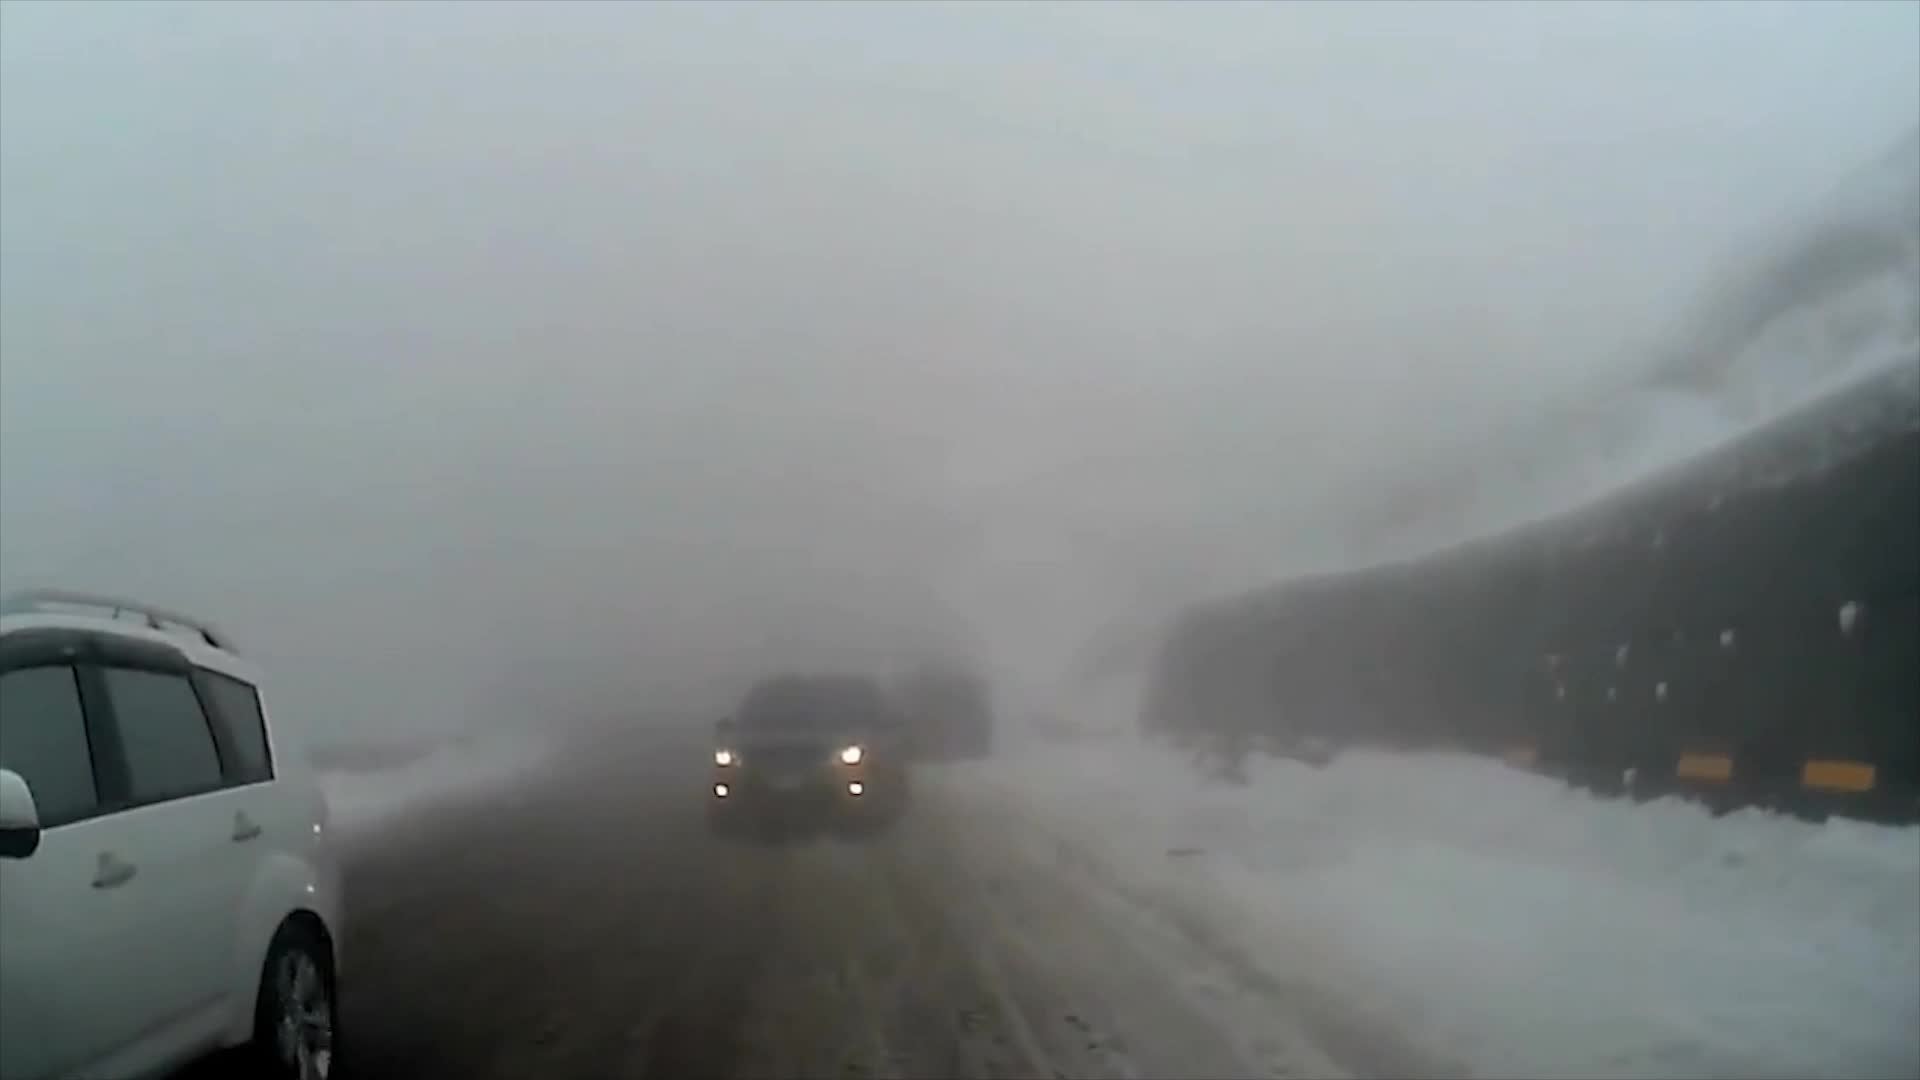vehicle: (0, 589, 351, 1080), (705, 667, 911, 837)
